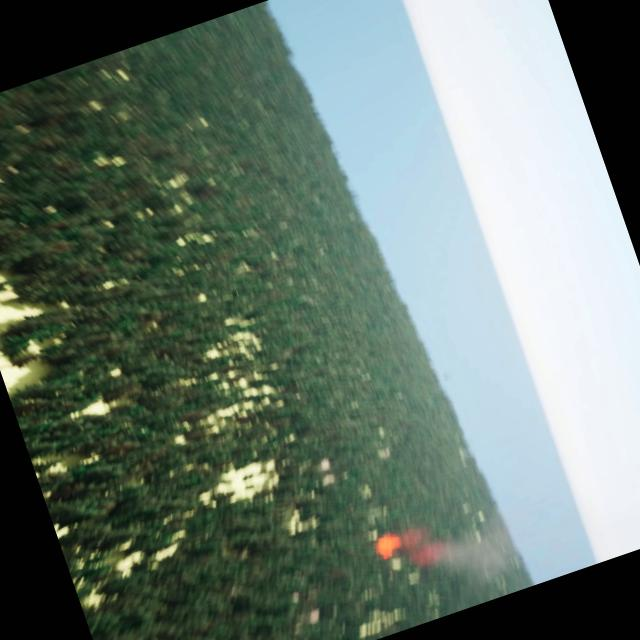fire: (364, 528, 404, 567)
smoke: (397, 496, 524, 600)
